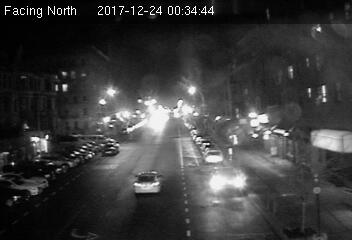car: (131, 170, 163, 196), (201, 149, 225, 166), (102, 142, 120, 155)
